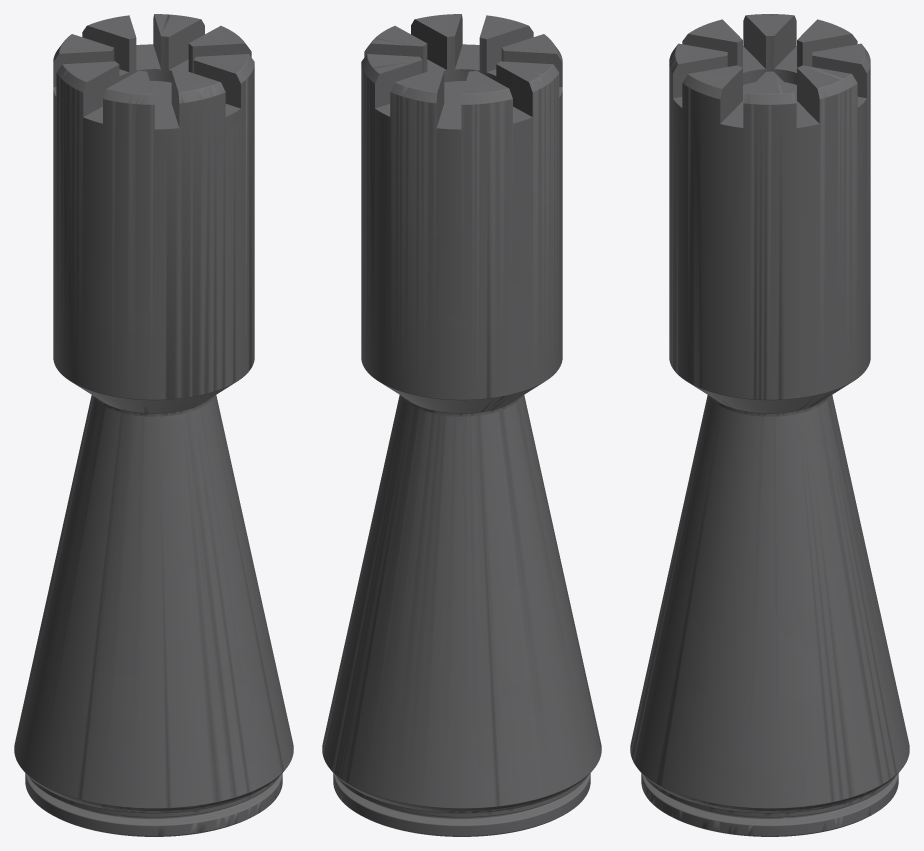
The model's file is king-black-hd.glb.
The picture shows the model from 3 angles, left to right: view 1: azimuth 30°, elevation 25°; view 2: azimuth 150°, elevation 25°; view 3: azimuth 270°, elevation 25°; orthographic projection.
Visible parts, largest first — view 1: 01_kral_cerna; view 2: 01_kral_cerna; view 3: 01_kral_cerna.
Part boxes in pixels (left/top/right/bottom): 01_kral_cerna: left=14, top=14, right=293, bottom=836; 01_kral_cerna: left=322, top=14, right=601, bottom=836; 01_kral_cerna: left=630, top=14, right=909, bottom=836.
Bounding box in the file's own units: 0.5729 × 1.65 × 0.5729.
Materials: 1 (1 with a texture image).
